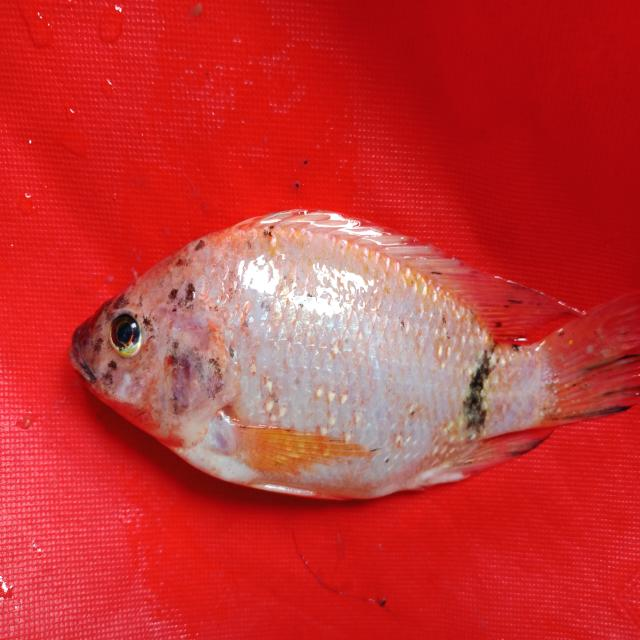ikan: (70, 179, 610, 508)
